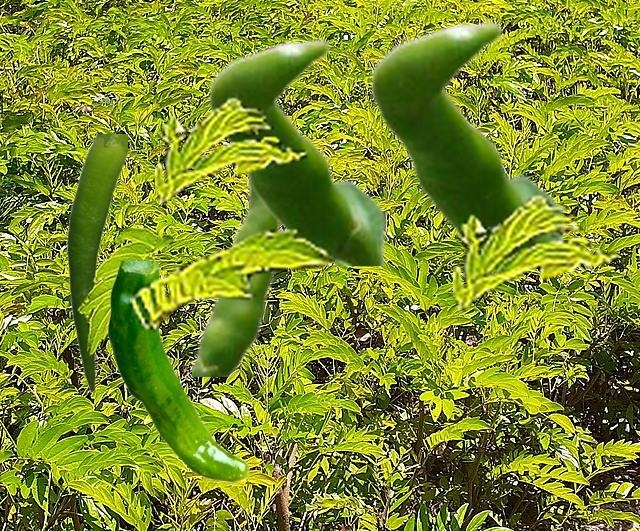green_chili: (369, 20, 562, 252), (207, 38, 384, 264), (107, 261, 249, 482), (192, 175, 281, 375), (66, 134, 126, 392)
